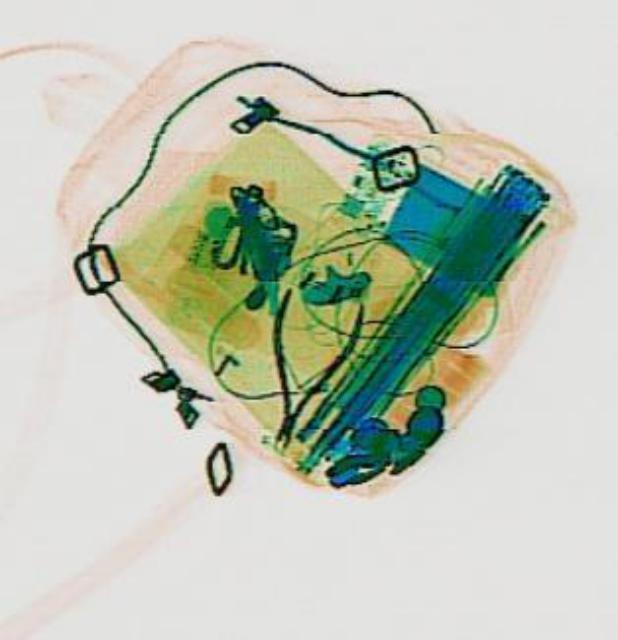Pliers: (234, 280, 362, 458)
